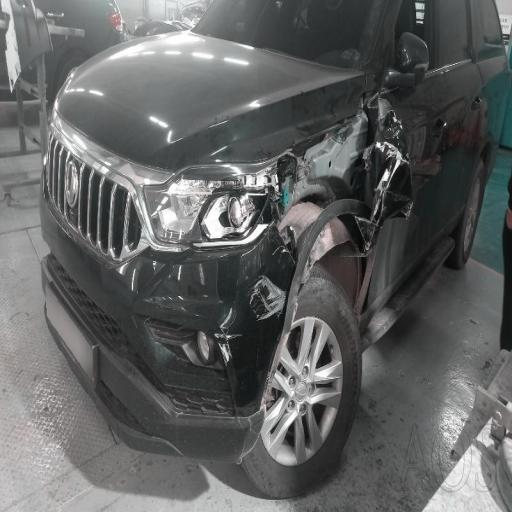broken: (160, 106, 297, 436)
scratch: (288, 89, 410, 211)
